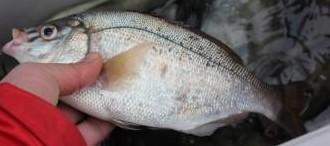fish: (0, 11, 310, 137)
